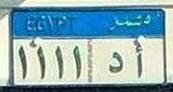1: (53, 46, 65, 80), (37, 47, 49, 81), (71, 46, 81, 80), (19, 46, 27, 78)
alif: (132, 45, 145, 80)
daal: (108, 51, 125, 74)
